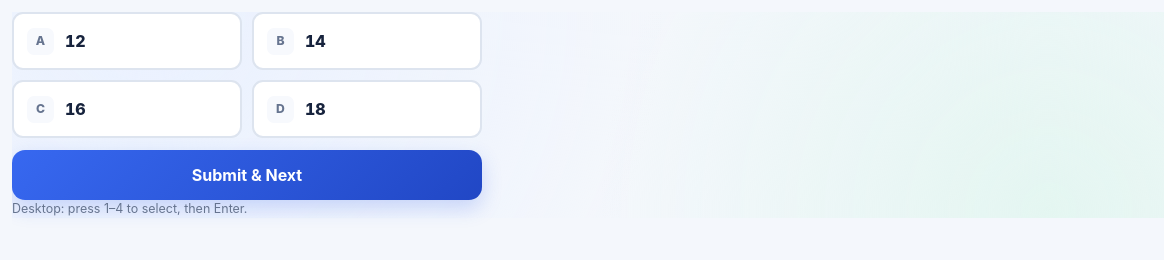
Test case: MultipleChoiceInput › requires a selection and permits changing it
Later steps or results of the test are not shown.
What coordinates should you click on to do the following:
click the button "Submit & Next"
I would click on:
 (247, 175)
Its box is [12, 150, 482, 200].
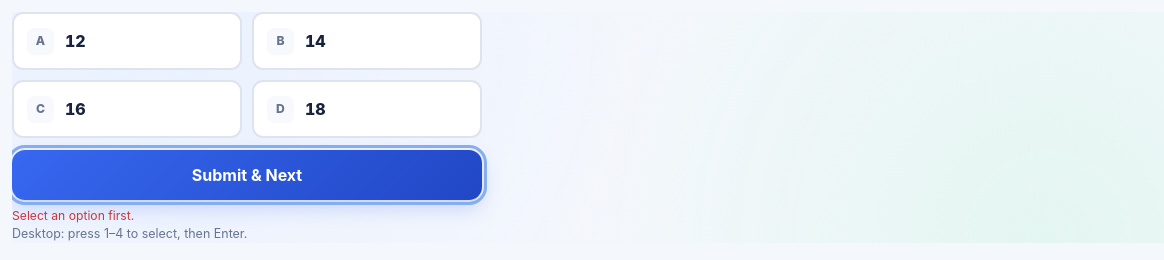
expect the message shows "Select an option": met, box [12, 208, 134, 223]
